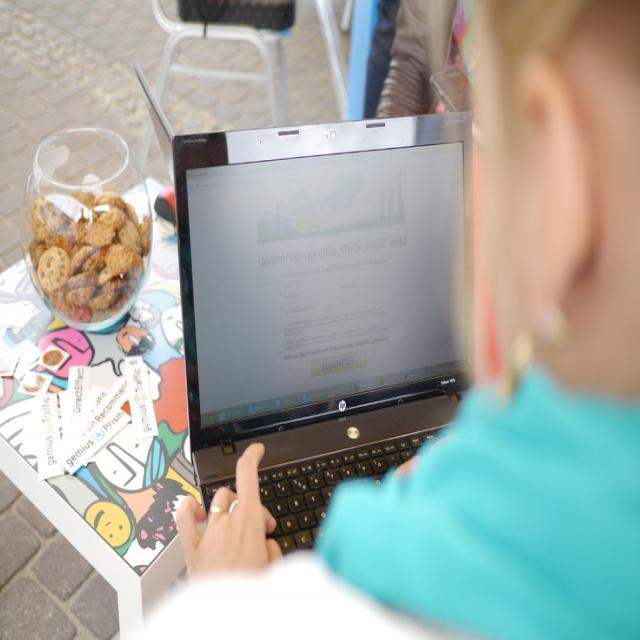Cookie: (26, 187, 152, 323)
